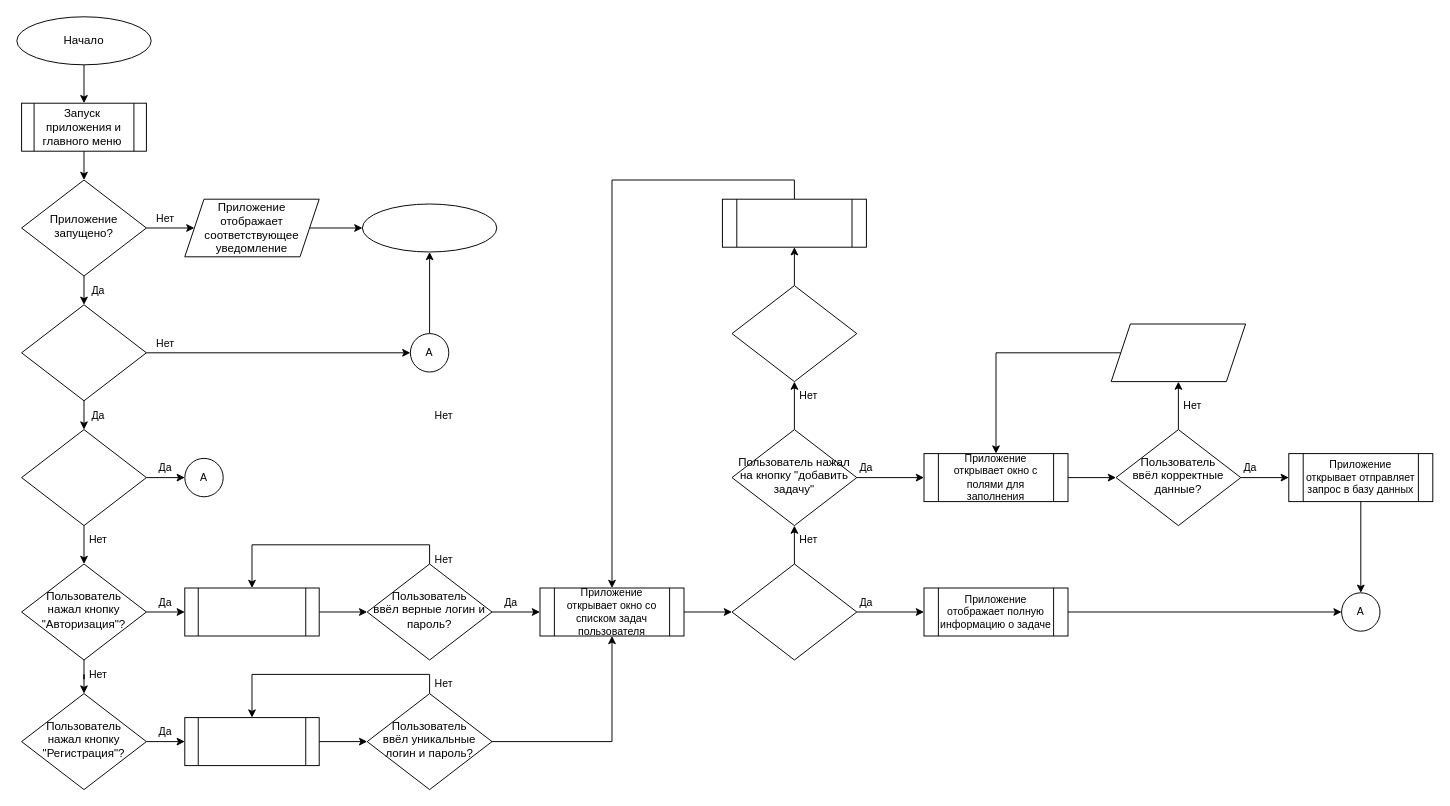
This 1450x806 diagram has some shape labels left out. Here are the shapes that lost their labels. From the top down, the centre of each, then its label:
pixel 429 227: Конец
pixel 793 222: Приложение открывает обновляет список задач
pixel 83 352: Пользователь решил продолжить работу?
pixel 794 333: Пользователь воспользовался фильтрацией
pixel 1178 352: Приложение отображает уведомление об ошибке
pixel 83 477: Пользователь нажал кнопку "Выход"?
pixel 251 611: Приложение открывает окно для авторизации
pixel 794 611: Пользователь нажал на задачу
pixel 251 741: Приложение открывает окно для регистрации
